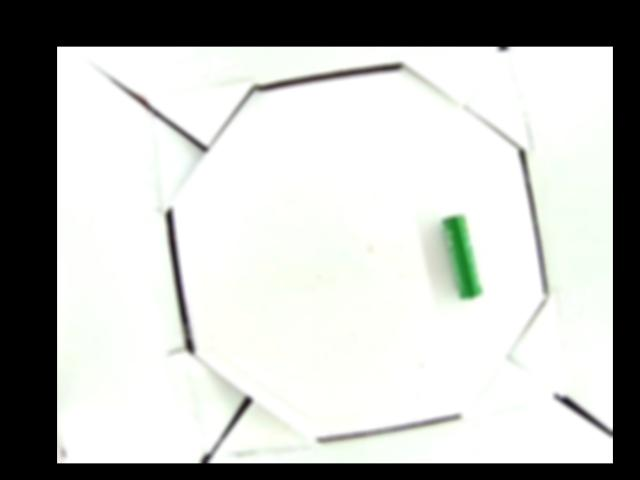Battery: (441, 213, 483, 300)
